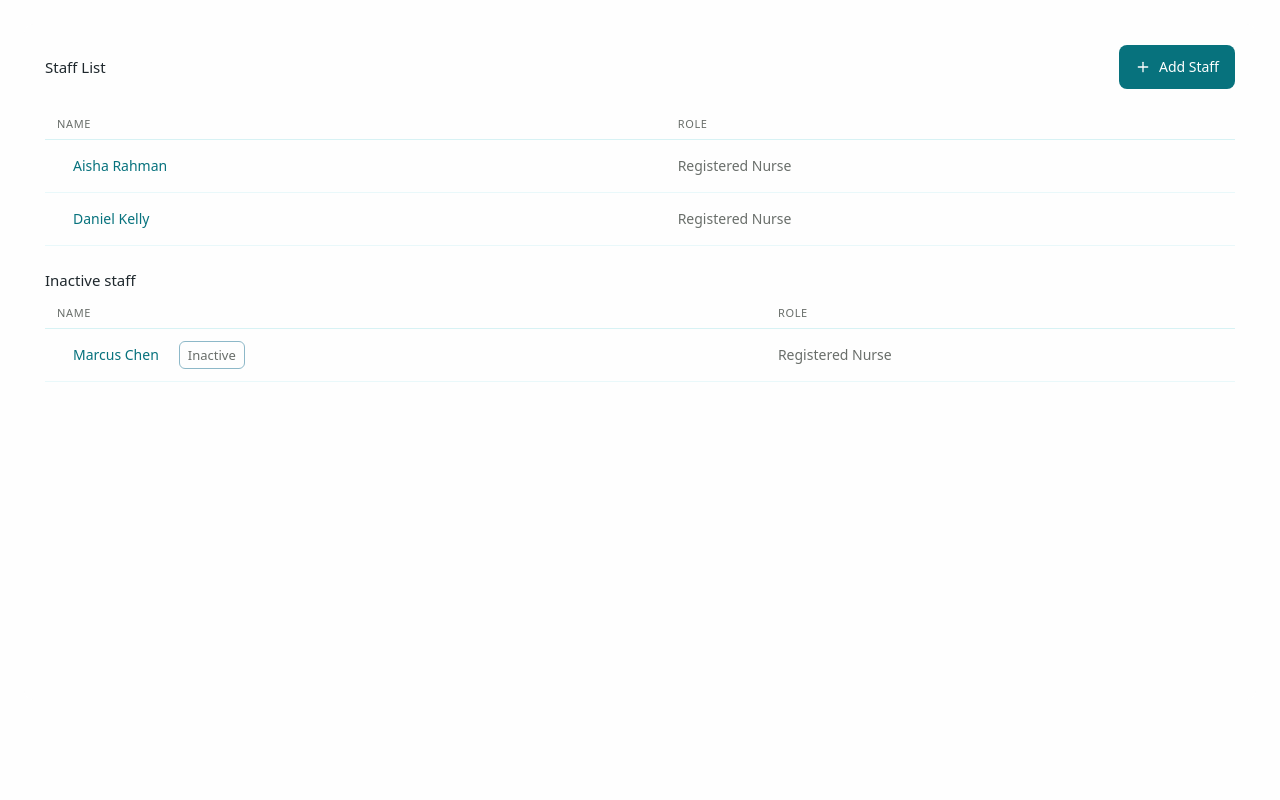
[ADM-03][AC-07] Deactivate with confirmation › [ADM-03][AC-07] an active carer's panel has a Deactivate button; Add Staff does not
The width and height of the screenshot is (1280, 800).
Click the button "Add Staff": {"x": 1177, "y": 67} [1119,45,1235,89]
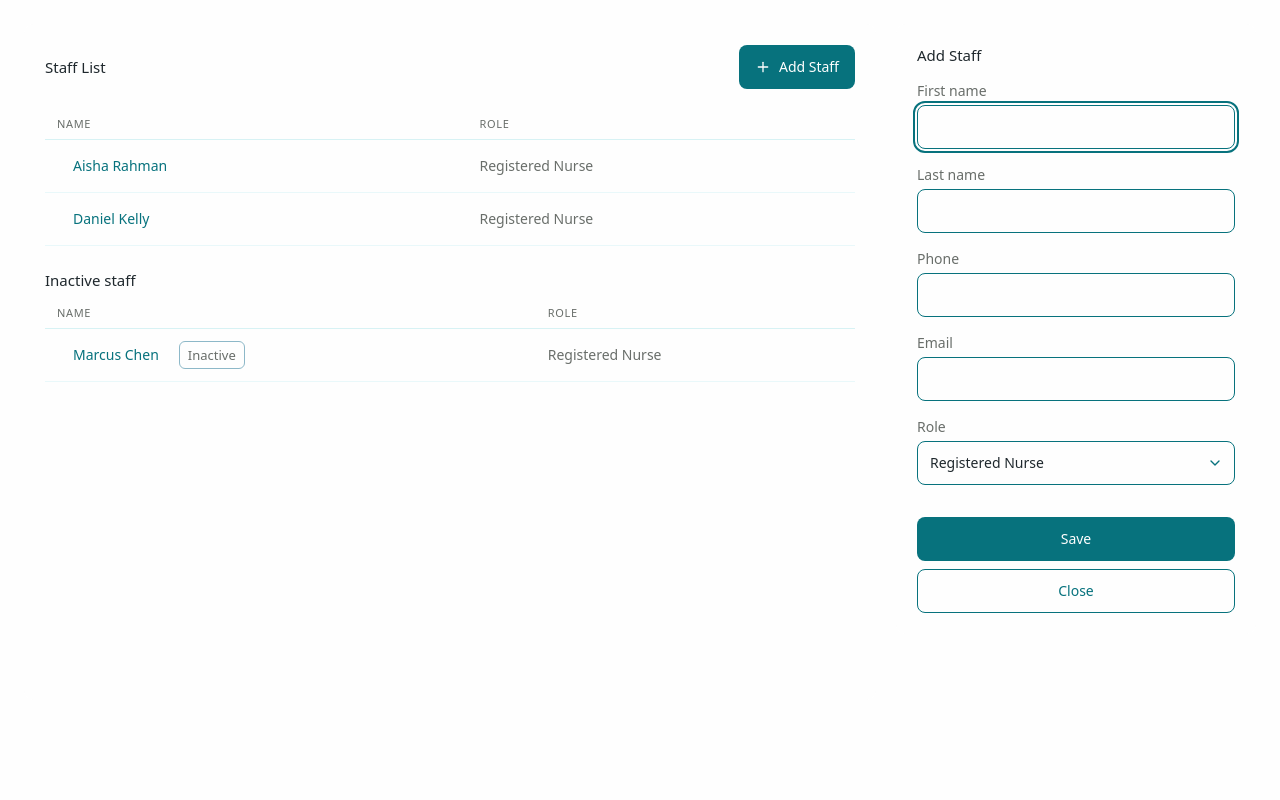
Expected: the button "Deactivate" is not shown
Click the button with aria-label "Edit Aisha Rahman": {"x": 120, "y": 166} [57,144,183,188]
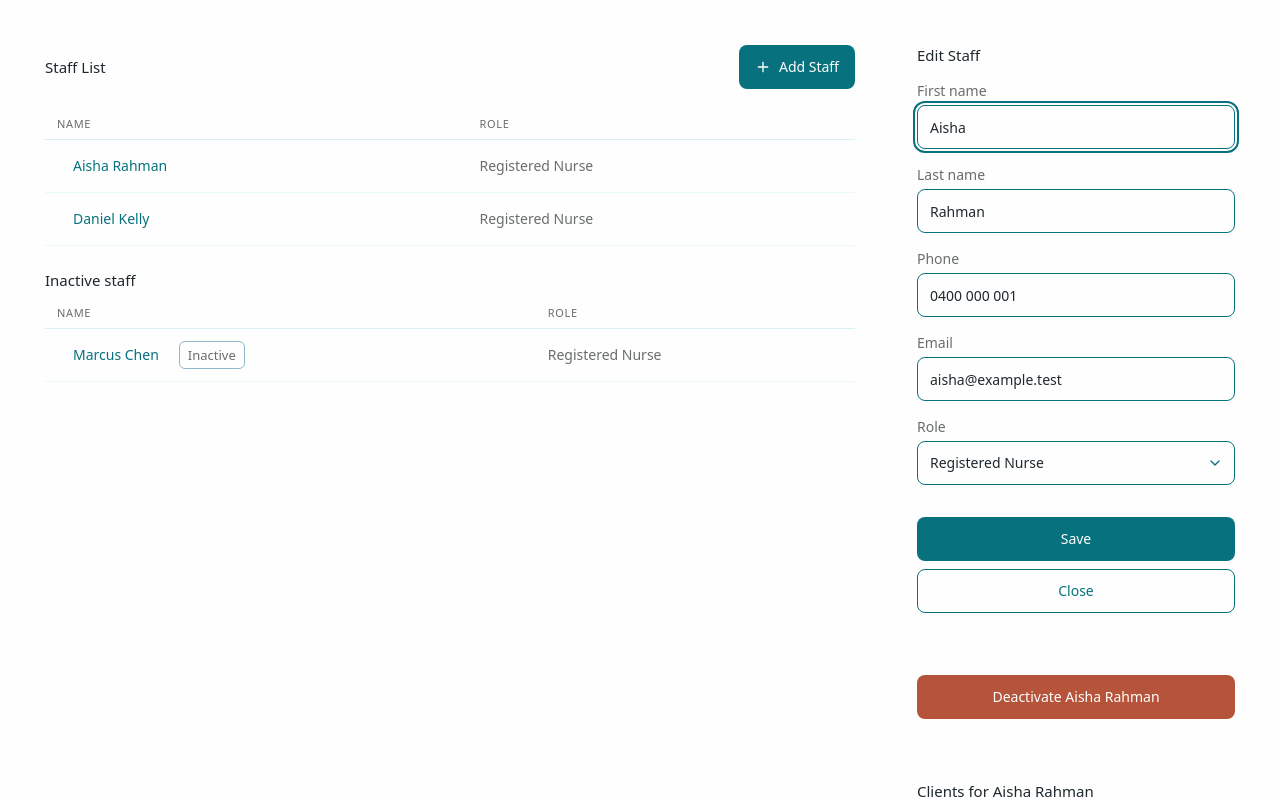
Now the button "Deactivate Aisha Rahman" is shown, box [917,675,1235,719]
